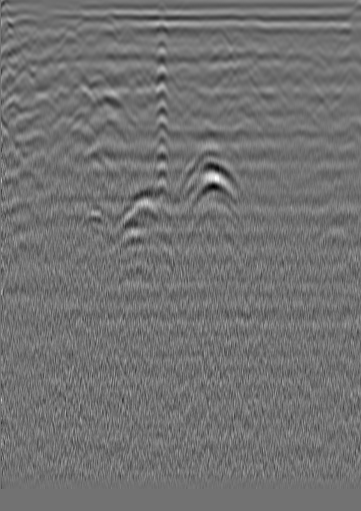가스: (109, 182, 164, 232)
상수: (311, 32, 331, 52)
오수: (18, 23, 38, 43)
우수: (195, 25, 232, 58)
